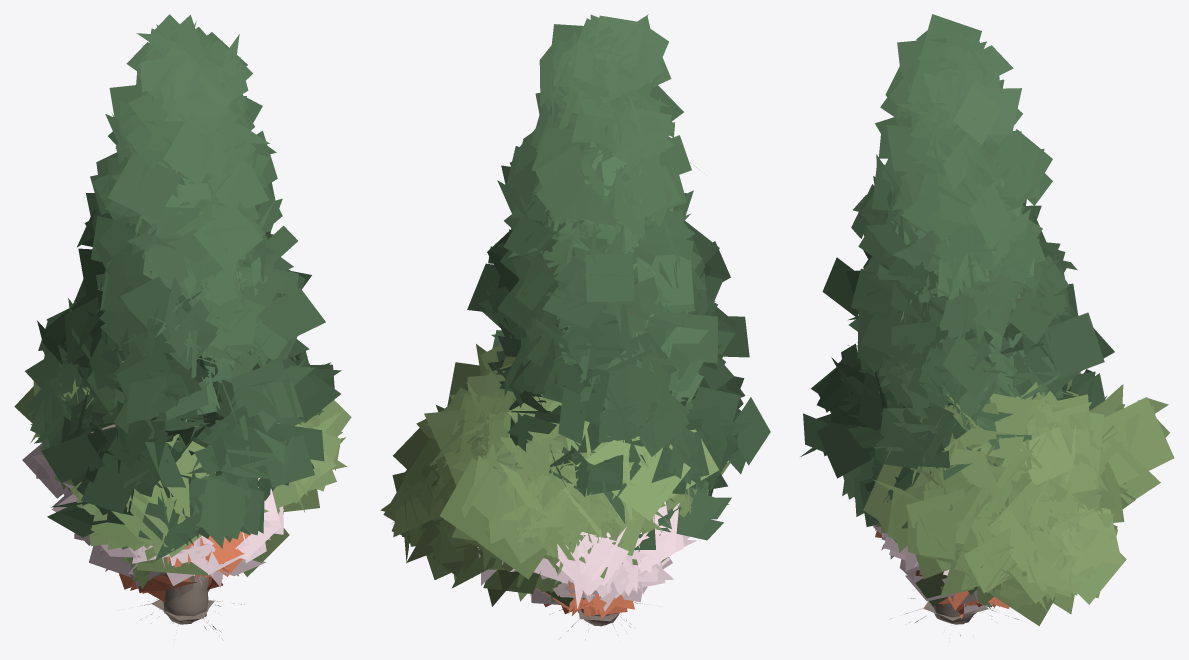
File: trees.glb
The picture shows the model from 3 angles, left to right: view 1: azimuth 30°, elevation 25°; view 2: azimuth 150°, elevation 25°; view 3: azimuth 270°, elevation 25°; orthographic projection. The views are drawn at different scales.
Parts seen in each view (by area): view 1: cedar2_leaves, cedar0_leaves, sacred_leaves, cedar1_leaves, sakura1_leaves, sakura0_leaves, maple0_leaves, sacred_trunk; view 2: cedar2_leaves, sacred_leaves, cedar0_leaves, sakura1_leaves, sakura0_leaves, cedar1_leaves, maple0_leaves; view 3: cedar2_leaves, sacred_leaves, cedar0_leaves, cedar1_leaves, sakura0_leaves, sacred_trunk, maple0_leaves.
Part boxes in pixels (bbox=[...]): cedar2_leaves: bbox=[25, 14, 341, 487]; cedar0_leaves: bbox=[65, 139, 323, 524]; sacred_leaves: bbox=[14, 350, 351, 588]; cedar1_leaves: bbox=[47, 271, 296, 561]; sakura1_leaves: bbox=[52, 482, 270, 588]; sakura0_leaves: bbox=[22, 443, 283, 585]; maple0_leaves: bbox=[119, 531, 250, 602]; sacred_trunk: bbox=[142, 576, 244, 640]; cedar2_leaves: bbox=[467, 14, 770, 497]; sacred_leaves: bbox=[380, 343, 730, 607]; cedar0_leaves: bbox=[466, 142, 745, 523]; sakura1_leaves: bbox=[531, 503, 696, 611]; sakura0_leaves: bbox=[477, 501, 667, 608]; cedar1_leaves: bbox=[500, 243, 731, 549]; maple0_leaves: bbox=[530, 581, 634, 618]; cedar2_leaves: bbox=[800, 14, 1114, 478]; sacred_leaves: bbox=[863, 372, 1174, 626]; cedar0_leaves: bbox=[817, 158, 1107, 528]; cedar1_leaves: bbox=[842, 294, 1026, 526]; sakura0_leaves: bbox=[873, 525, 992, 613]; sacred_trunk: bbox=[889, 598, 1019, 638]; maple0_leaves: bbox=[875, 529, 1009, 619].
Bounding box in the file's own units: 14.22 × 25.58 × 14.72.
